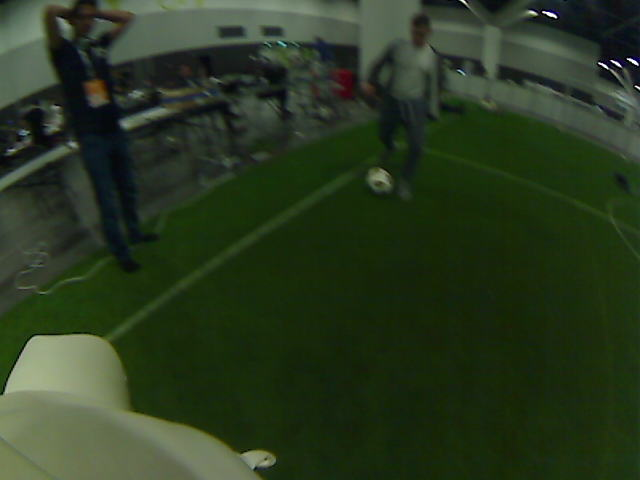ball: (364, 165, 391, 192)
goalpost: (624, 115, 637, 163), (557, 87, 569, 132)
